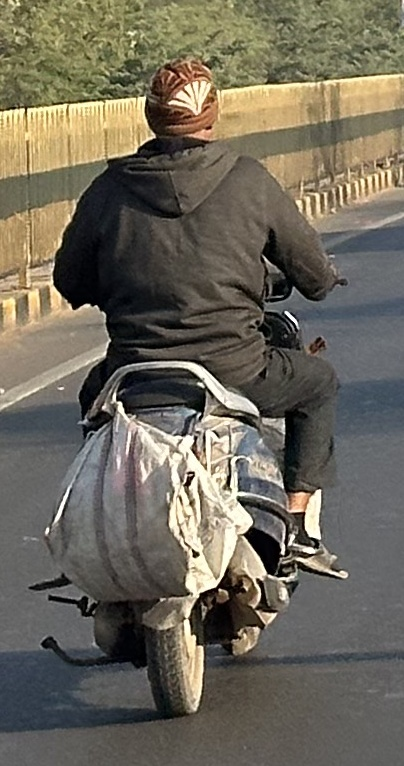BikeWithRider: (20, 48, 360, 728)
NoHelmet: (127, 50, 235, 155)
